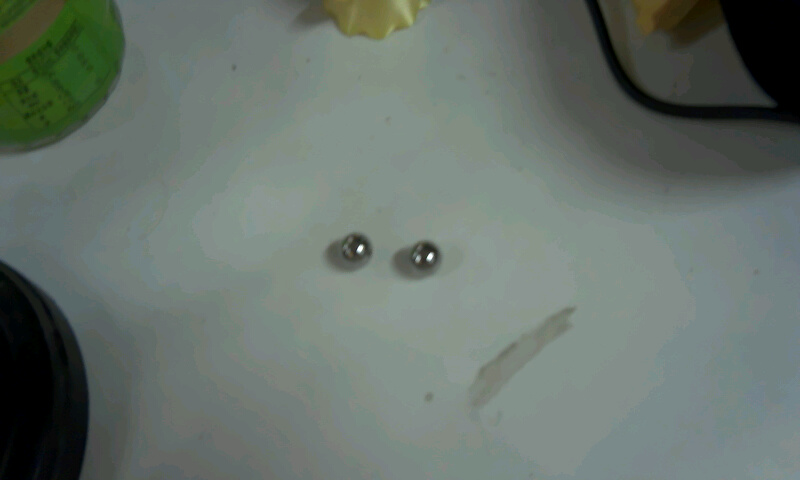steelball: (332, 223, 383, 274), (401, 230, 450, 280)
